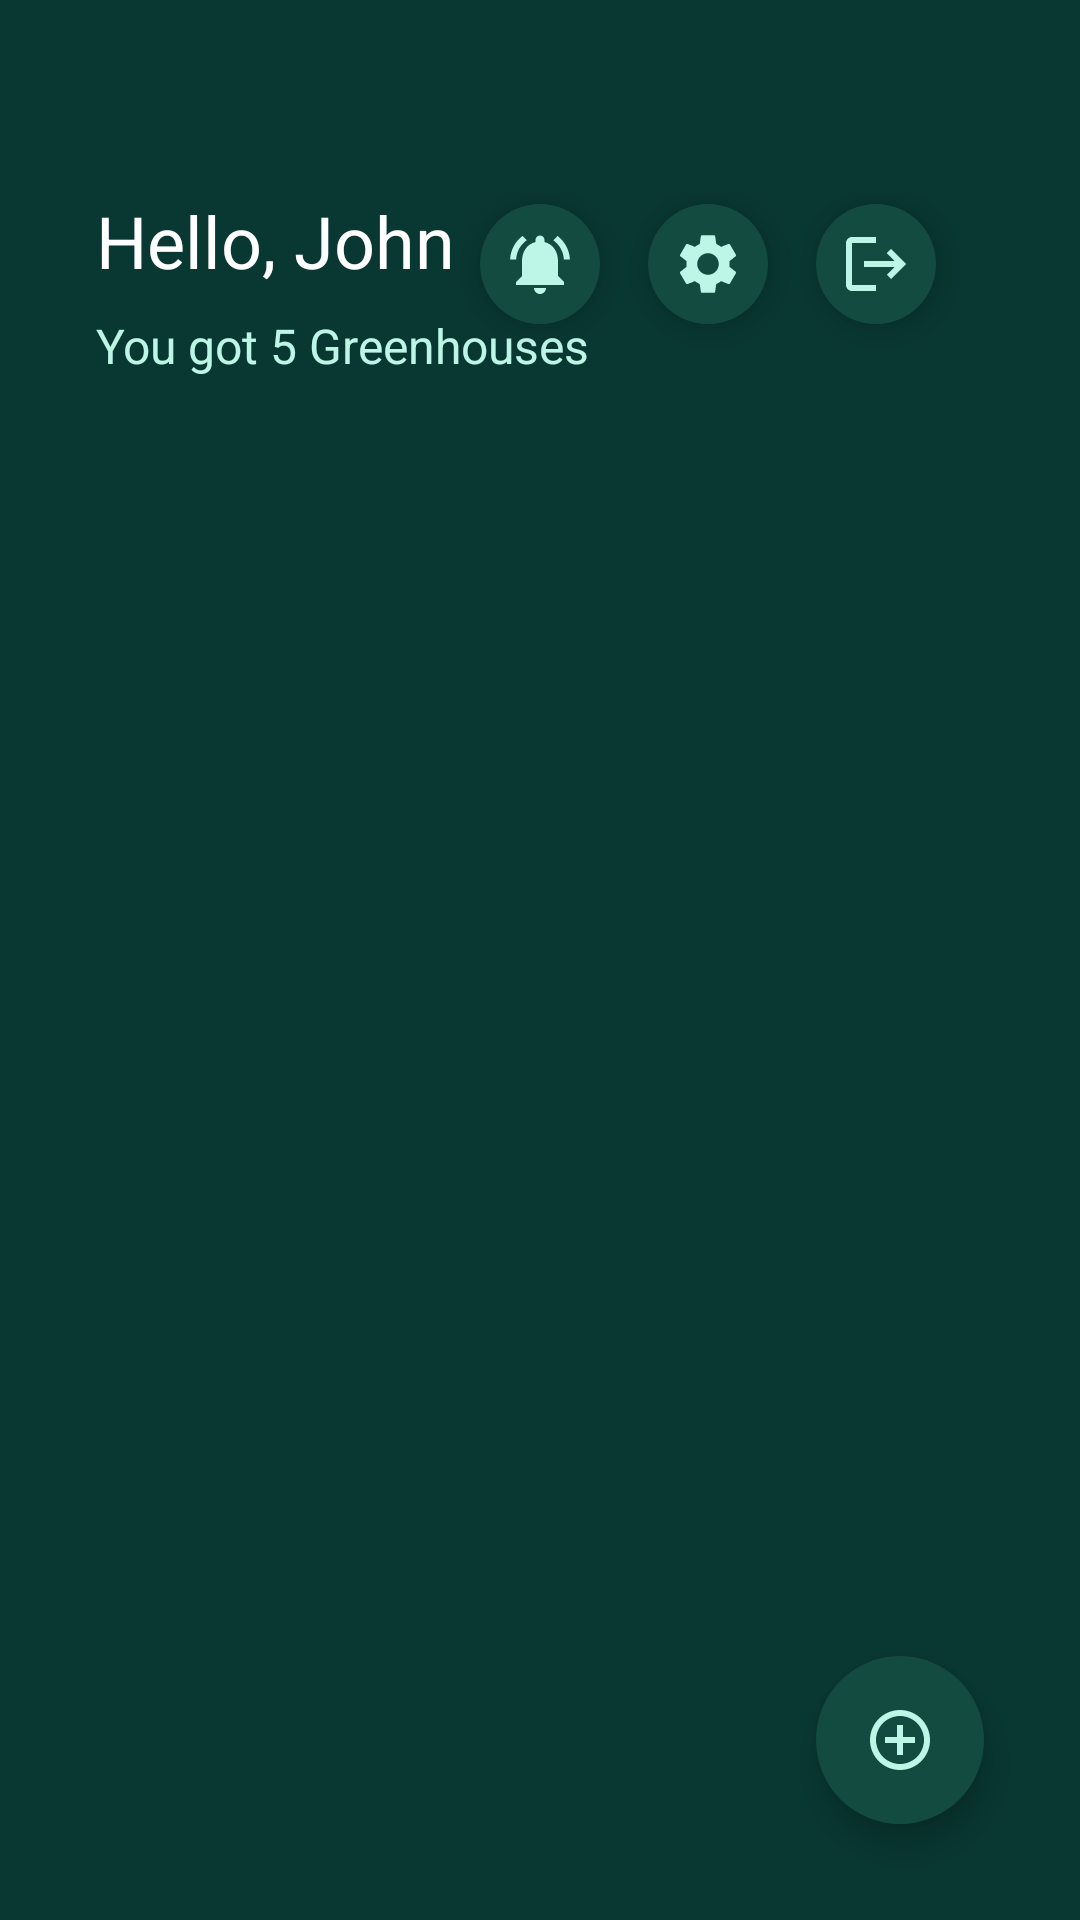

Icon bounding boxes for this 1080*1920 phone screenshot, format [x1,y1,x2,y2]:
add circle: [816,1656,984,1824]
notifications: [510,235,570,294]
settings: [680,235,736,293]
